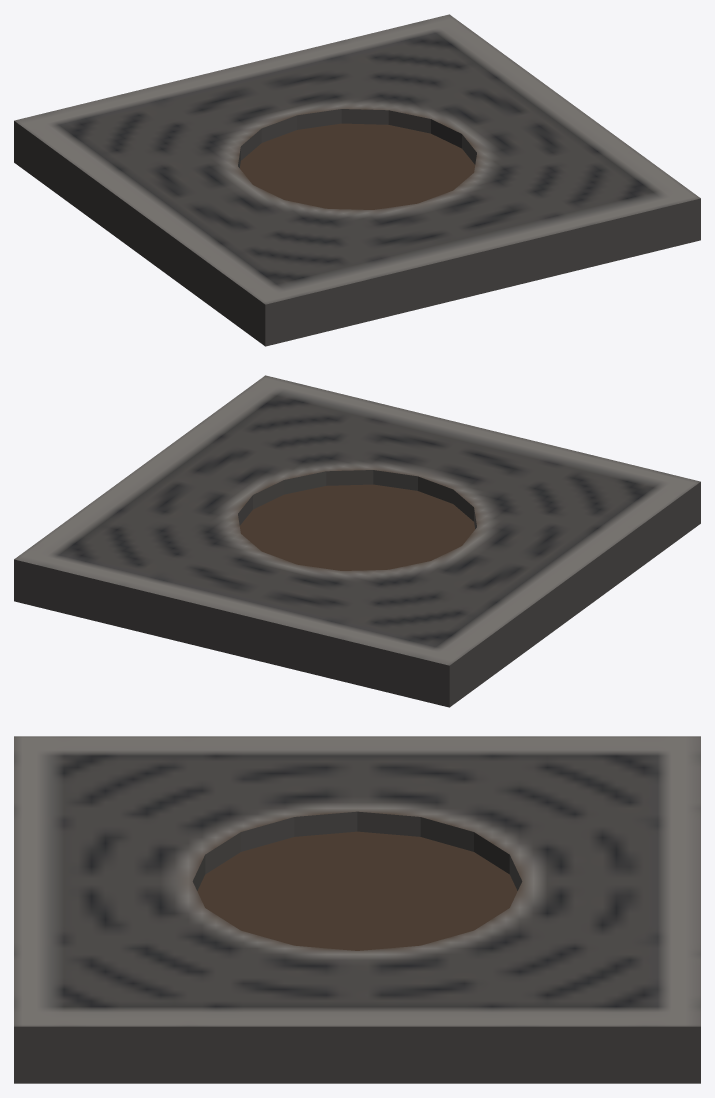
Rendered from SM_Street_TreePit_Grate_50_01.fbx.
3 renders of one model, top to bottom at view 1: azimuth 30°, elevation 25°; view 2: azimuth 150°, elevation 25°; view 3: azimuth 270°, elevation 25°, orthographic. The views are drawn at different scales.
Visible parts, largest first — view 1: SM_Street_TreePit_Grate_50_01; view 2: SM_Street_TreePit_Grate_50_01; view 3: SM_Street_TreePit_Grate_50_01.
Part boxes in pixels (x1=…): SM_Street_TreePit_Grate_50_01: x1=14, y1=14, x2=700, y2=346; SM_Street_TreePit_Grate_50_01: x1=14, y1=375, x2=700, y2=707; SM_Street_TreePit_Grate_50_01: x1=14, y1=736, x2=700, y2=1083.
Size of the model in its own units: 0.5 by 0.046 by 0.5.
1 material, 1 textured.
